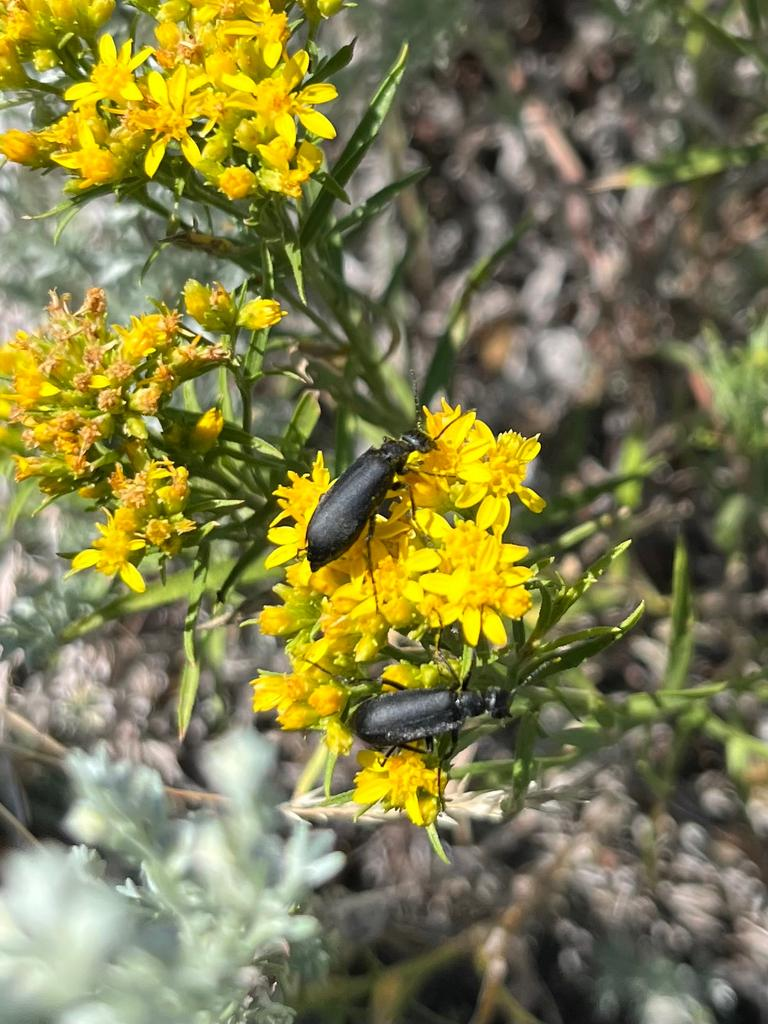blister_beetle: (264, 352, 491, 639), (266, 609, 541, 829)
